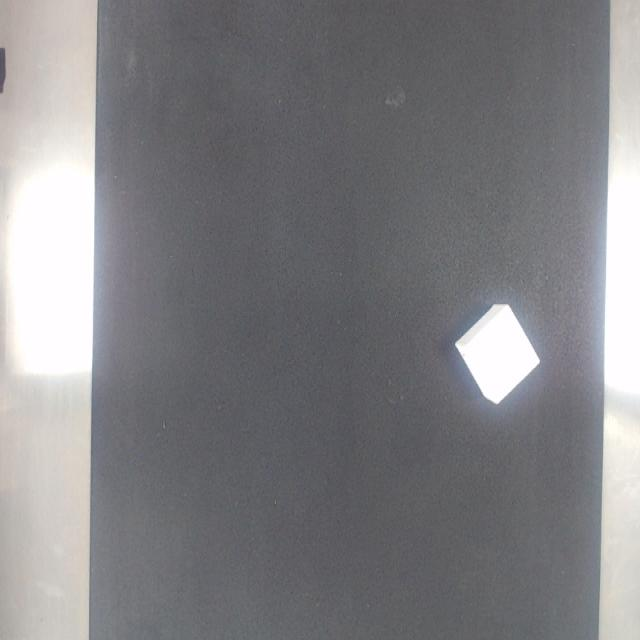Blanco: (455, 304, 539, 403)
